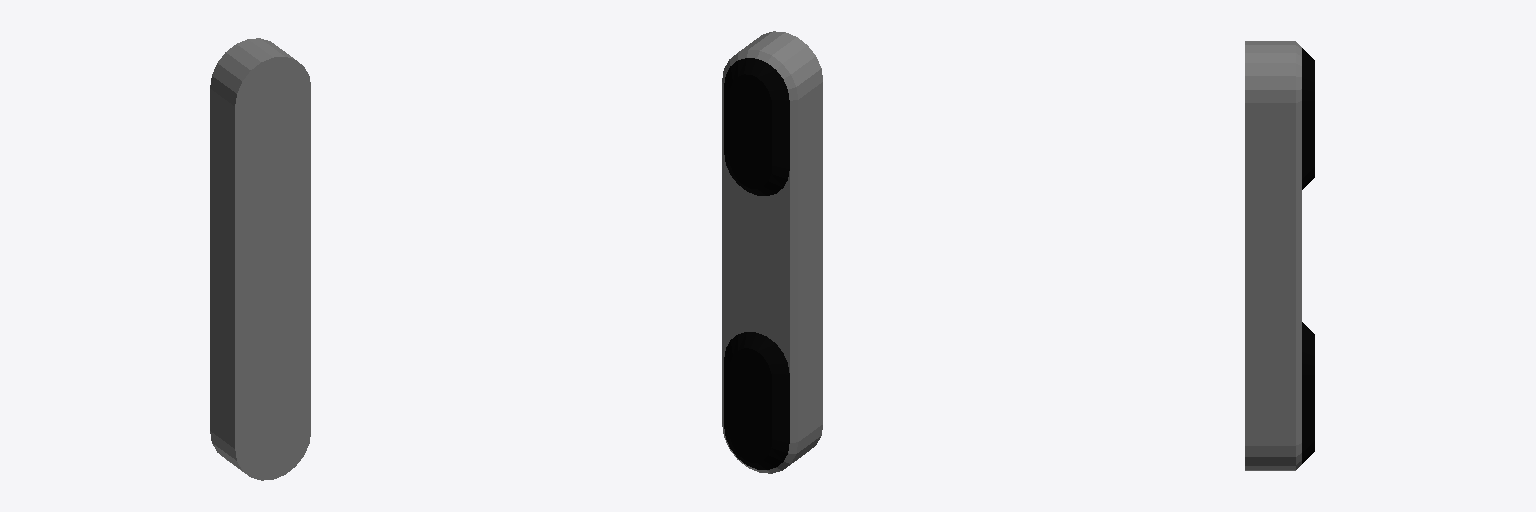
Rendered from UpperArm.obj.
3 views of the same model, side by side, from view 1: azimuth 30°, elevation 25°; view 2: azimuth 150°, elevation 25°; view 3: azimuth 270°, elevation 25° (orthographic).
Visible parts, largest first — view 1: Cube; view 2: Cube; view 3: Cube.
Boxes of the visible parts, x1,y1,x2,y2 form: Cube: [210, 38, 310, 480]; Cube: [722, 31, 822, 473]; Cube: [1245, 41, 1314, 470].
Size of the model in its own units: 35 by 185 by 27.5.